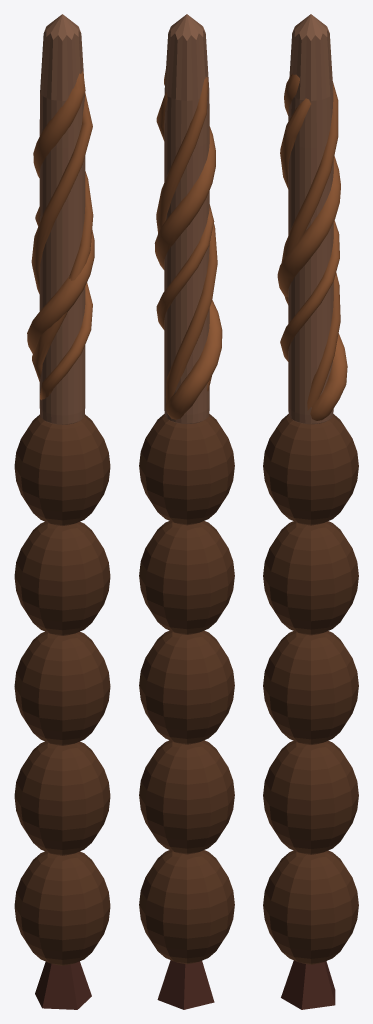
Rendered from Wand 278.glb.
The picture shows the model from 3 angles, left to right: view 1: azimuth 30°, elevation 25°; view 2: azimuth 210°, elevation 25°; view 3: azimuth 270°, elevation 25°; orthographic projection.
Visible parts, largest first — view 1: GeneratedWand; view 2: GeneratedWand; view 3: GeneratedWand.
Part boxes in pixels (<box>): GeneratedWand: <box>14,14,110,1009</box>; GeneratedWand: <box>139,14,234,1009</box>; GeneratedWand: <box>263,14,358,1009</box>.
Size of the model in its own units: 0.0447 by 0.5082 by 0.0449.
